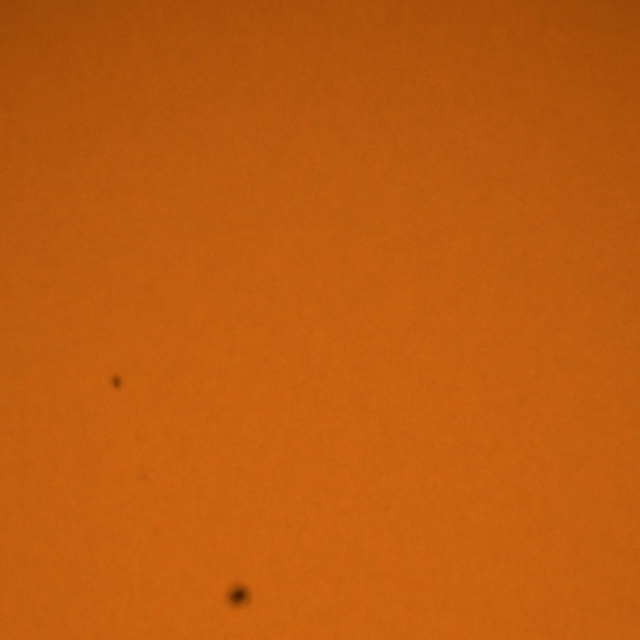sunspot: (224, 580, 253, 612), (109, 372, 125, 392)
